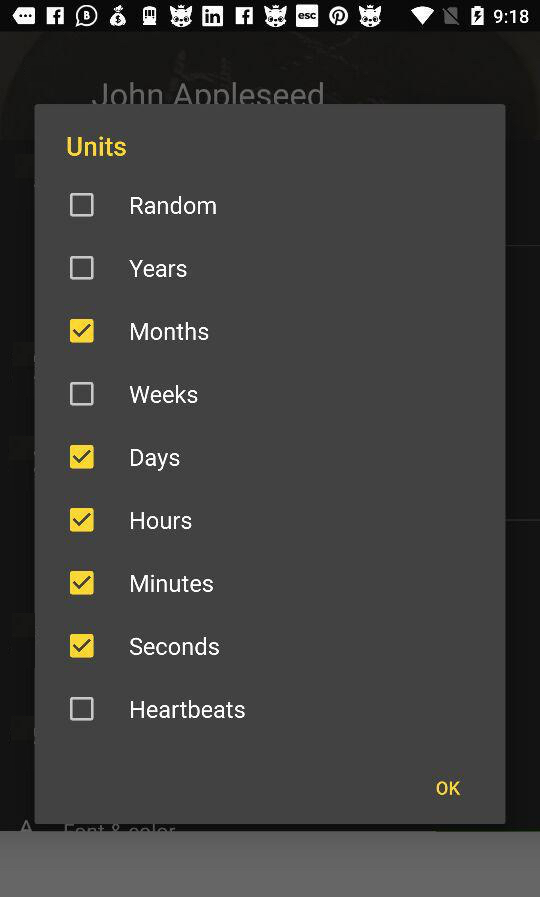CheckedTextView: (70, 696, 246, 722), (70, 633, 221, 659), (70, 193, 218, 219), (69, 318, 210, 345), (70, 571, 214, 597), (70, 381, 199, 408), (70, 508, 193, 534), (70, 444, 181, 472), (70, 256, 188, 282)
Modal: (35, 104, 506, 824)
Text: (131, 699, 246, 719), (130, 636, 221, 656), (131, 196, 218, 216), (130, 574, 214, 593), (131, 322, 210, 342), (66, 135, 129, 158), (129, 384, 199, 404), (131, 448, 181, 472), (131, 511, 193, 530), (128, 260, 188, 279), (435, 780, 462, 797)
UpperTaskBar: (1, 1, 540, 33)
